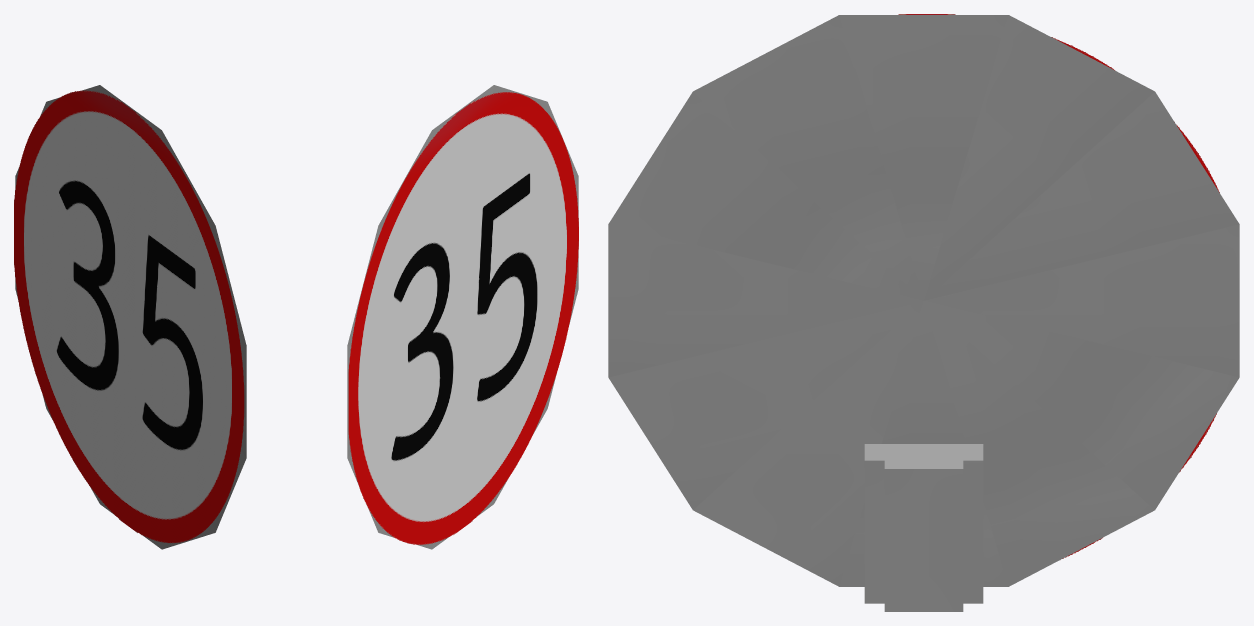
The model's file is speed_35_small.obj.
3 renders of one model, left to right at view 1: azimuth 30°, elevation 25°; view 2: azimuth 150°, elevation 25°; view 3: azimuth 270°, elevation 25°, orthographic. The views are drawn at different scales.
Parts seen in each view (by area): view 1: cube, circle; view 2: cube, circle; view 3: circle, cube.
Boxes of the visible parts, x1,y1,x2,y2 form: cube: [14, 90, 244, 543]; circle: [15, 85, 246, 549]; cube: [348, 92, 578, 544]; circle: [347, 85, 578, 549]; circle: [608, 15, 1239, 586]; cube: [864, 14, 1219, 611].
Size of the model in its own units: 0.0484 by 0.5 by 0.5.
2 materials, 2 textured.
